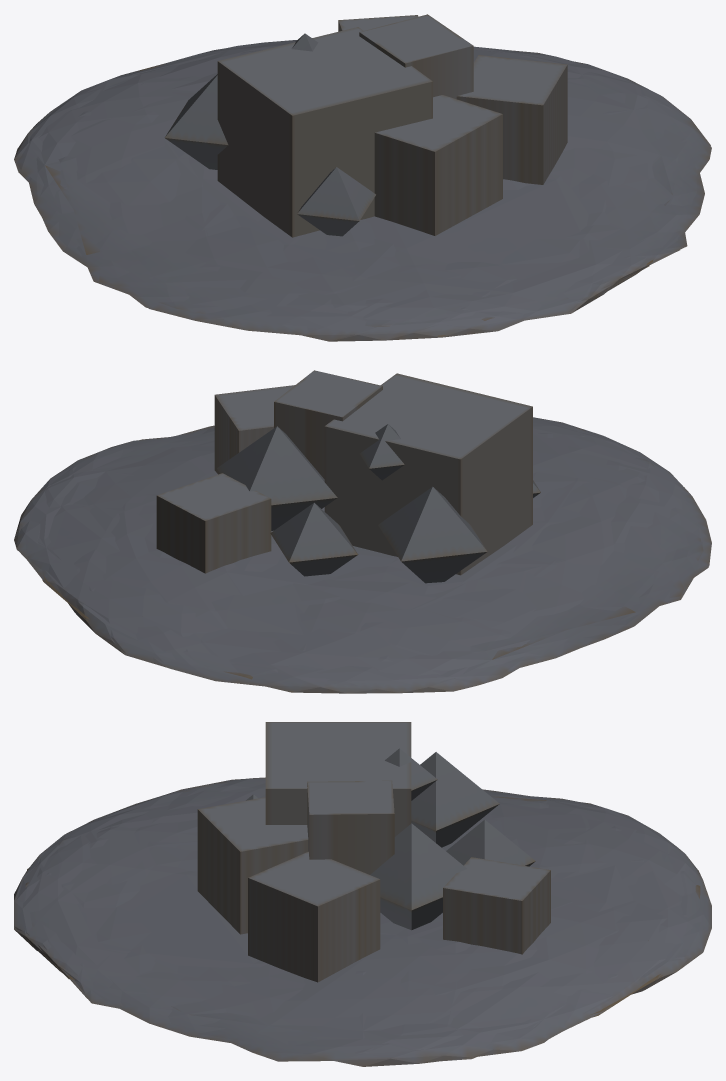
File: SF_INCL_NICKEL_CUBIC_V1.glb
The picture shows the model from 3 angles, top to bottom: view 1: azimuth 30°, elevation 25°; view 2: azimuth 150°, elevation 25°; view 3: azimuth 270°, elevation 25°; orthographic projection. The views are drawn at different scales.
Visible parts, largest first — view 1: LOD0_SF_INCL_NICKEL_CUBIC_V1, LOD1_SF_INCL_NICKEL_CUBIC_V1, LOD2_SF_INCL_NICKEL_CUBIC_V1; view 2: LOD0_SF_INCL_NICKEL_CUBIC_V1, LOD1_SF_INCL_NICKEL_CUBIC_V1, LOD2_SF_INCL_NICKEL_CUBIC_V1; view 3: LOD0_SF_INCL_NICKEL_CUBIC_V1, LOD1_SF_INCL_NICKEL_CUBIC_V1, LOD2_SF_INCL_NICKEL_CUBIC_V1.
Part boxes in pixels (box(x1,y1,x2,y2)): LOD0_SF_INCL_NICKEL_CUBIC_V1: box(14, 14, 711, 341); LOD1_SF_INCL_NICKEL_CUBIC_V1: box(28, 50, 686, 336); LOD2_SF_INCL_NICKEL_CUBIC_V1: box(45, 108, 672, 340); LOD0_SF_INCL_NICKEL_CUBIC_V1: box(14, 370, 711, 693); LOD1_SF_INCL_NICKEL_CUBIC_V1: box(37, 427, 703, 692); LOD2_SF_INCL_NICKEL_CUBIC_V1: box(93, 435, 684, 659); LOD0_SF_INCL_NICKEL_CUBIC_V1: box(14, 722, 711, 1066); LOD1_SF_INCL_NICKEL_CUBIC_V1: box(25, 782, 700, 1066); LOD2_SF_INCL_NICKEL_CUBIC_V1: box(77, 796, 648, 1038).
Size of the model in its own units: 1.13 by 0.2706 by 1.15.
Materials: 1 (1 with a texture image).
